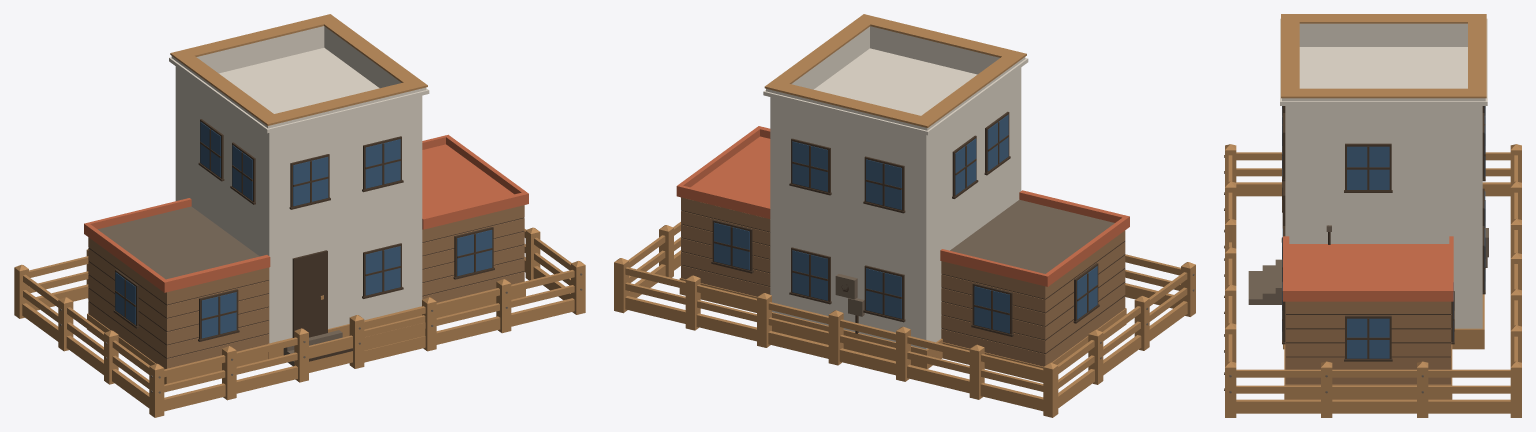
Rendered from town building.fbx.
3 views of the same model, side by side, from view 1: azimuth 30°, elevation 25°; view 2: azimuth 150°, elevation 25°; view 3: azimuth 270°, elevation 25° (orthographic). The views are drawn at different scales.
Visible parts, largest first — view 1: Town_Building; view 2: Town_Building; view 3: Town_Building.
Part boxes in pixels (<box>): Town_Building: <box>14,14,585,417</box>; Town_Building: <box>614,14,1195,417</box>; Town_Building: <box>1224,14,1521,417</box>.
Size of the model in its own units: 1015 by 539 by 574.
